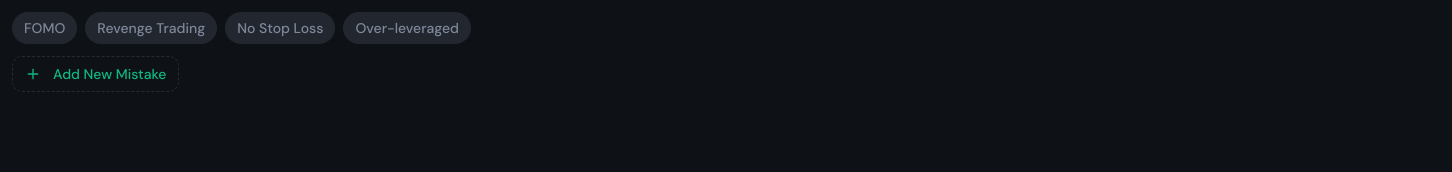
Scenario: MistakeTagsInput › shows input field when "Add New Mistake" is clicked
Click the button "Add New Mistake": [96, 74] box [12,56,180,92]
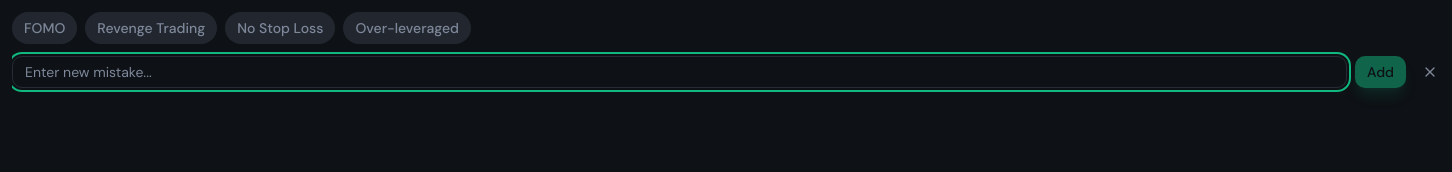
Expected: the button "Add" is shown, [1355,56,1406,88]
Expected: the field with placeholder "Enter new mistake..." is shown, [12,56,1347,88]
